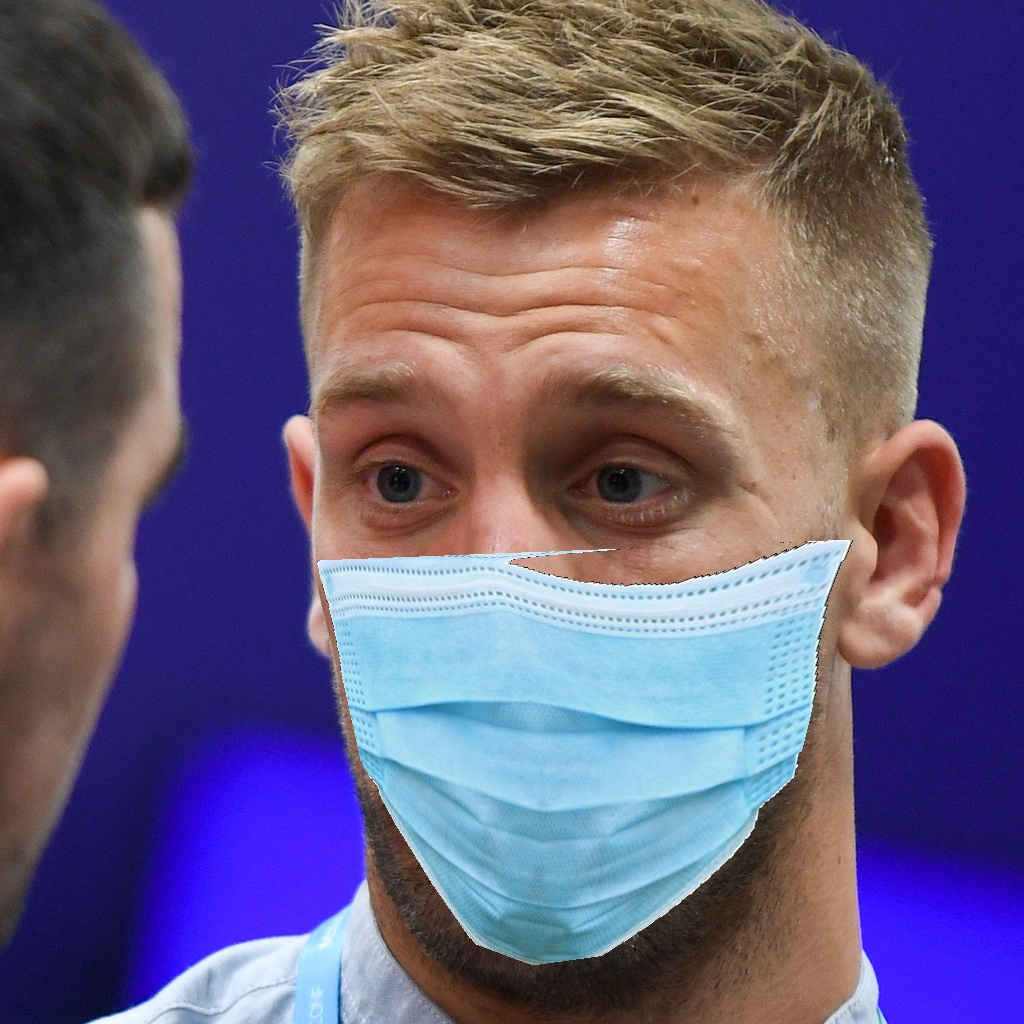Mask: (302, 288, 855, 967)
